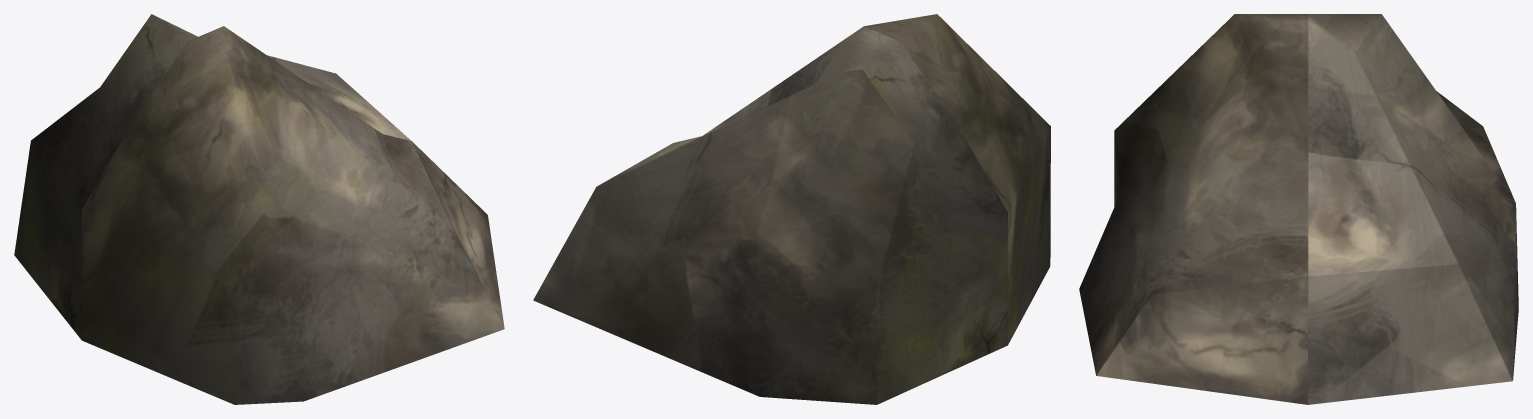
The model's file is rock_2_F.FBX.
3 renders of one model, left to right at view 1: azimuth 30°, elevation 25°; view 2: azimuth 150°, elevation 25°; view 3: azimuth 270°, elevation 25°, orthographic.
Parts seen in each view (by area): view 1: 2; view 2: 2; view 3: 2.
Boxes of the visible parts, x1,y1,x2,y2 form: 2: (14,14,504,404); 2: (533,14,1050,404); 2: (1079,14,1518,404).
Bounding box in the file's own units: 260 × 245 × 176.
